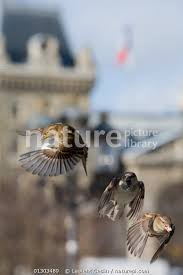hsparrow: (117, 211, 183, 267), (99, 170, 147, 219)
